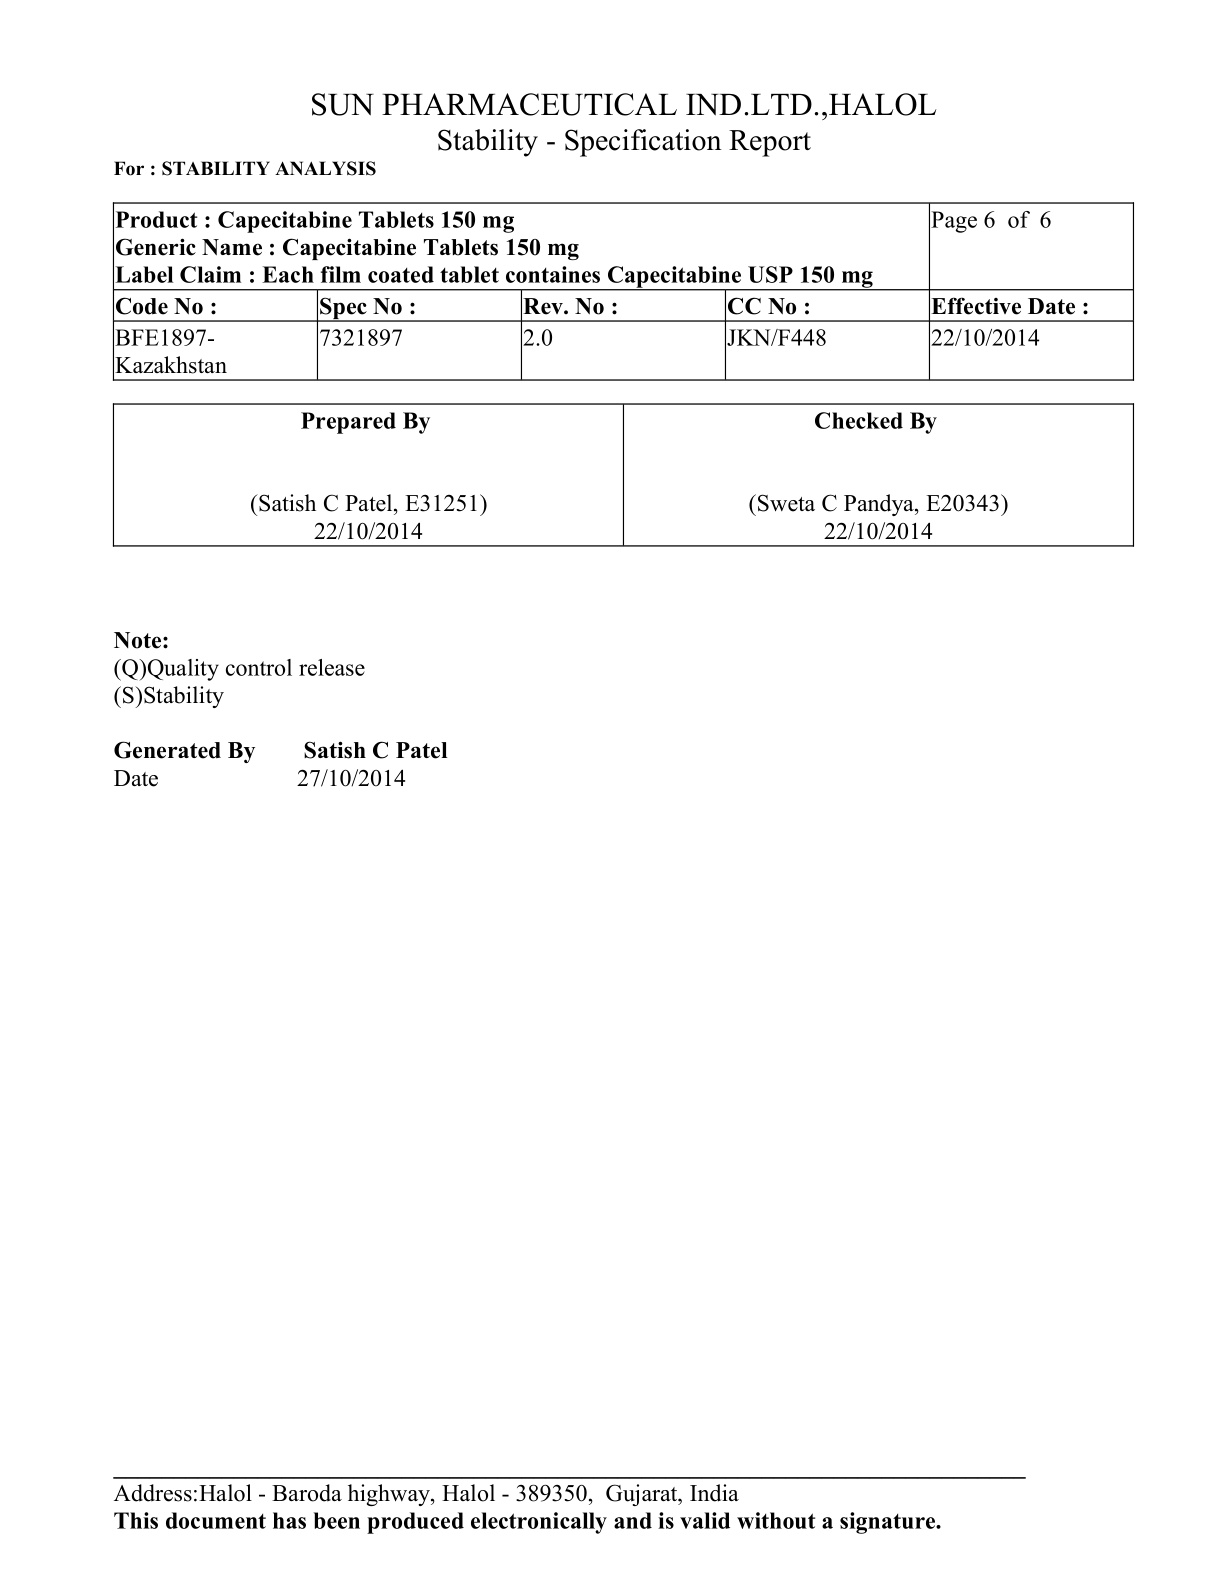full_lined: (111, 402, 1135, 546)
merged_cells: (111, 201, 1135, 382)
